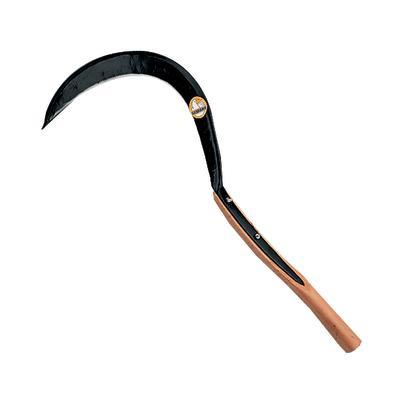foice: (42, 51, 359, 351)
